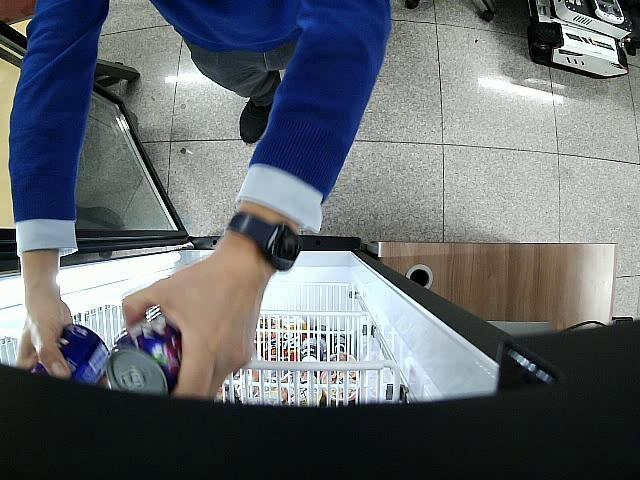14_welchsGrape: (108, 317, 184, 396), (32, 323, 109, 385)
